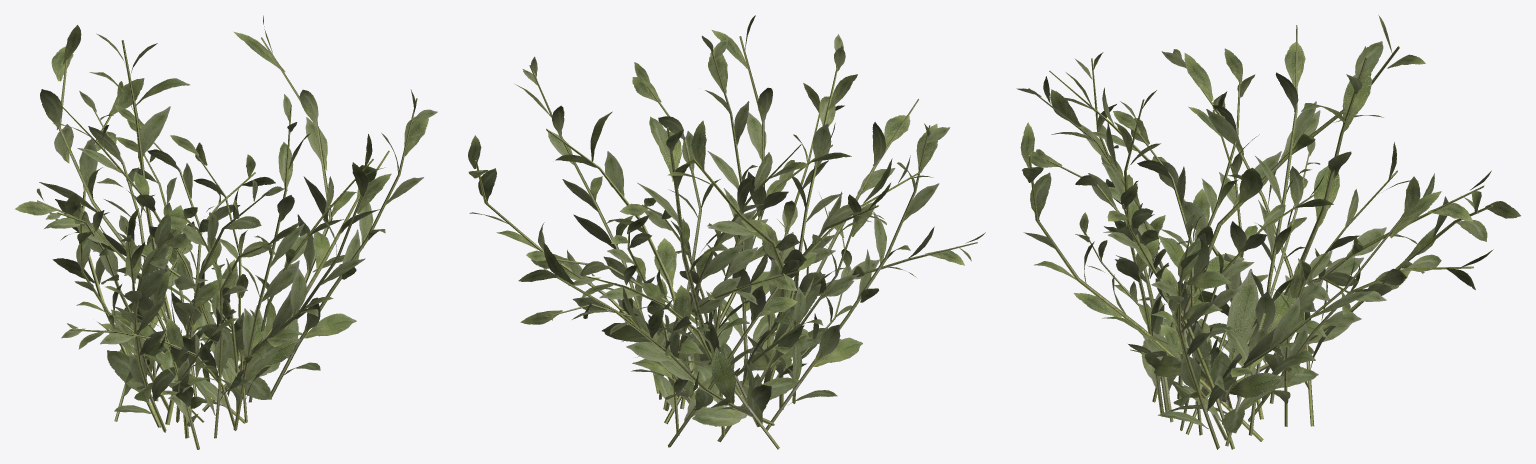
Rendered from sm_DaisyFlowers_01_08.fbx.
3 views of the same model, side by side, from view 1: azimuth 30°, elevation 25°; view 2: azimuth 150°, elevation 25°; view 3: azimuth 270°, elevation 25° (orthographic). The views are drawn at different scales.
Parts seen in each view (by area): view 1: sm_DaisyFlowers_01_08; view 2: sm_DaisyFlowers_01_08; view 3: sm_DaisyFlowers_01_08.
Part boxes in pixels (left/top/right/bottom): sm_DaisyFlowers_01_08: left=15, top=15, right=437, bottom=449; sm_DaisyFlowers_01_08: left=468, top=15, right=985, bottom=449; sm_DaisyFlowers_01_08: left=1016, top=15, right=1520, bottom=449.
Size of the model in its own units: 22.77 by 22.69 by 19.06.
